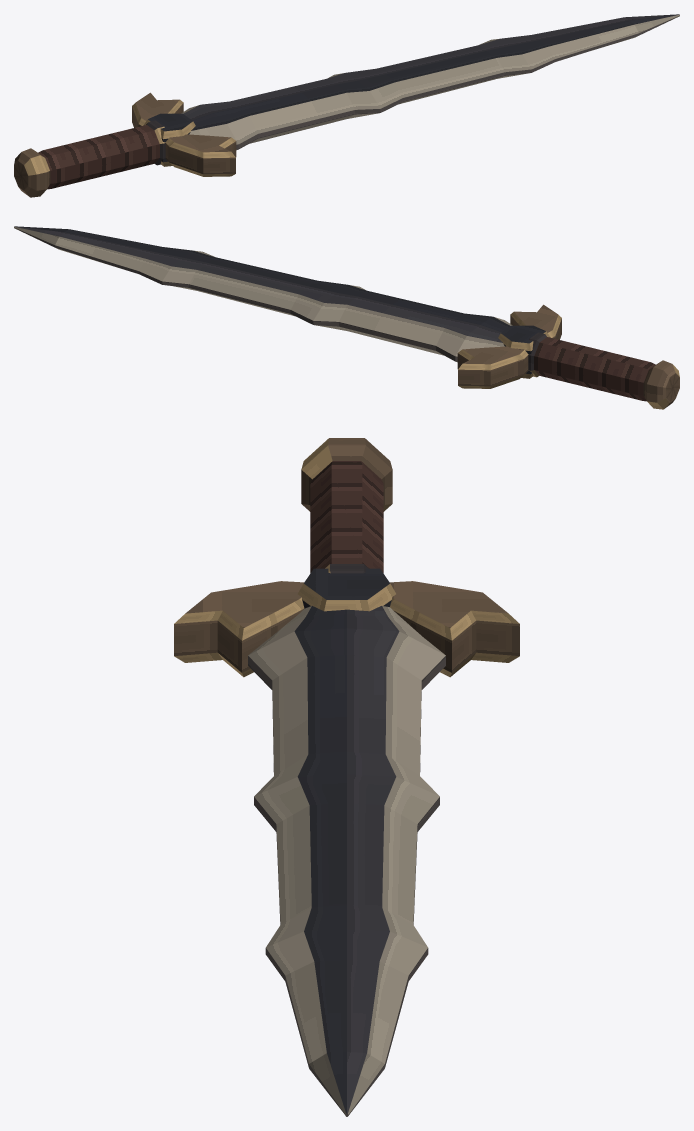
File: bench_chilian_lihuo_sword_5.obj
3 renders of one model, top to bottom at view 1: azimuth 30°, elevation 25°; view 2: azimuth 150°, elevation 25°; view 3: azimuth 270°, elevation 25°, orthographic. The views are drawn at different scales.
Parts seen in each view (by area): view 1: geometry; view 2: geometry; view 3: geometry.
Boxes of the visible parts, x1=… form: geometry: x1=14, y1=14, x2=679, y2=197; geometry: x1=14, y1=226, x2=679, y2=409; geometry: x1=174, y1=438, x2=519, y2=1116.
Bounding box in the file's own units: 0.75 × 0.045 × 0.1708.
